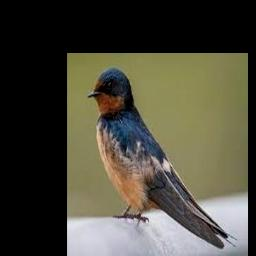Swallow: (88, 66, 237, 249)
